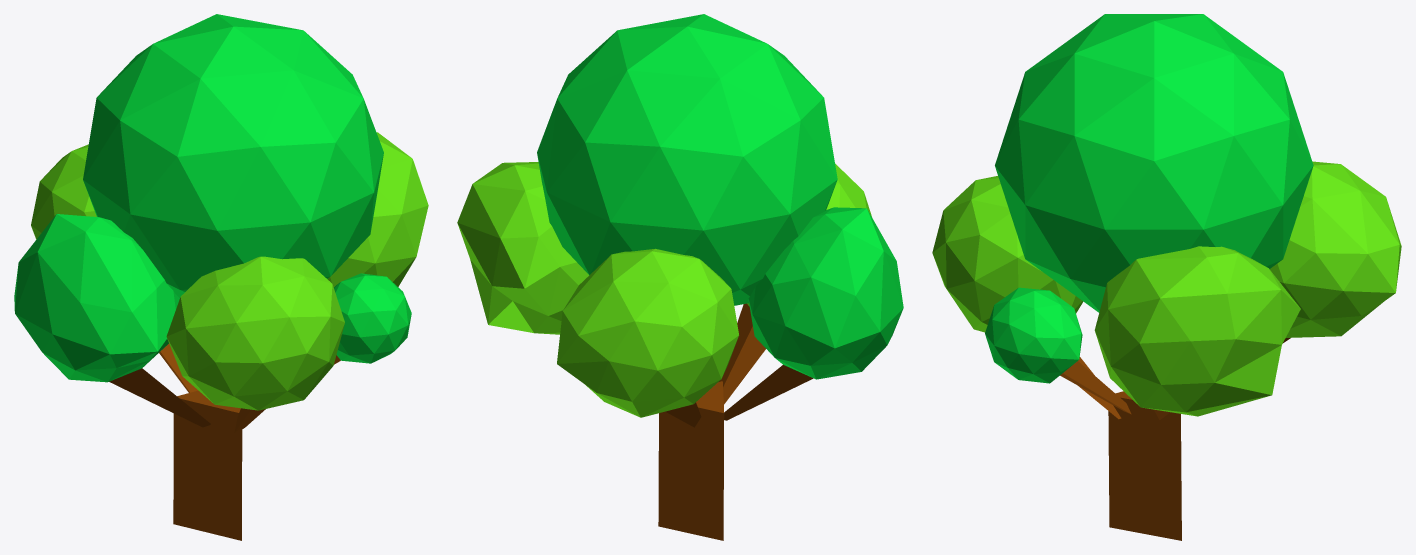
Rendered from drvo 1.fbx.
3 views of the same model, side by side, from view 1: azimuth 30°, elevation 25°; view 2: azimuth 150°, elevation 25°; view 3: azimuth 270°, elevation 25° (orthographic). The views are drawn at different scales.
Visible parts, largest first — view 1: Icosphere.006; view 2: Icosphere.006; view 3: Icosphere.006.
Part boxes in pixels (x1=…): Icosphere.006: x1=14, y1=14, x2=428, y2=540; Icosphere.006: x1=457, y1=14, x2=903, y2=540; Icosphere.006: x1=932, y1=14, x2=1401, y2=540.
Bounding box in the file's own units: 1103 × 1308 × 1085.
